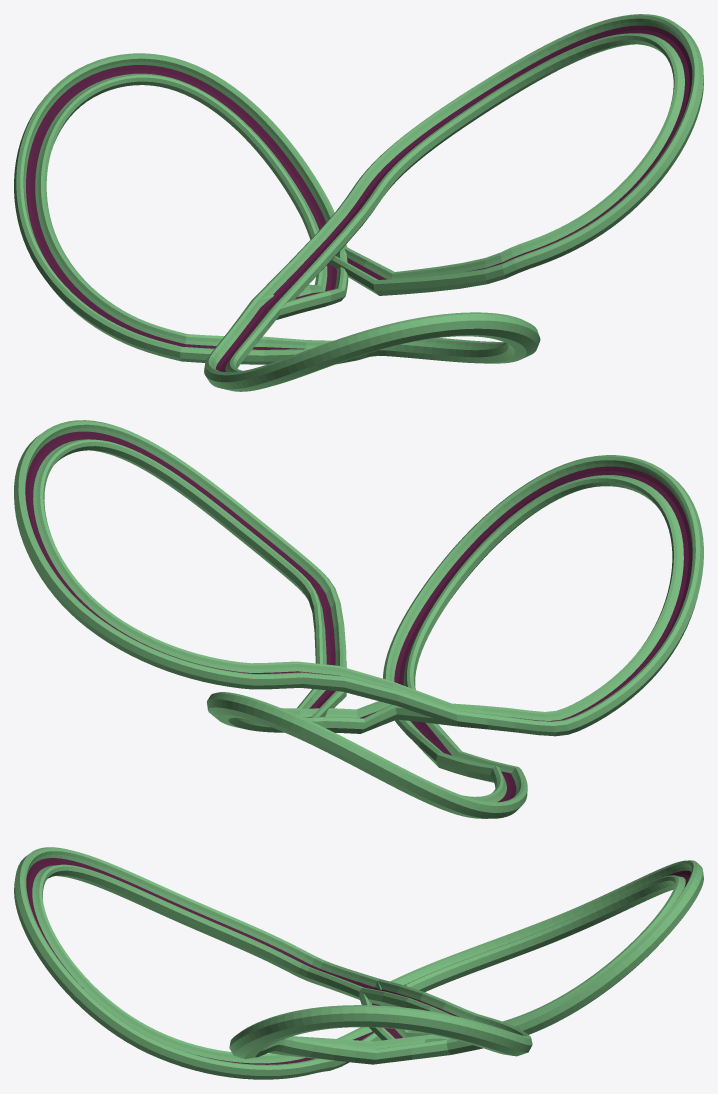
Rendered from This.fbx.
The picture shows the model from 3 angles, top to bottom: view 1: azimuth 30°, elevation 25°; view 2: azimuth 150°, elevation 25°; view 3: azimuth 270°, elevation 25°; orthographic projection. The views are drawn at different scales.
Parts seen in each view (by area): view 1: level3upgrade2.001, level3basic.003, upgrade1lvl3.002, 1, 2; view 2: level3upgrade2.001, upgrade1lvl3.002, level3basic.003, 1, 2; view 3: upgrade1lvl3.002, level3upgrade2.001, level3basic.003, 1.
Part boxes in pixels (x1,y1,x2,y2): level3upgrade2.001: [252, 14, 703, 309]; level3basic.003: [14, 53, 347, 361]; upgrade1lvl3.002: [180, 299, 540, 391]; 1: [258, 284, 345, 319]; 2: [314, 247, 348, 295]; level3upgrade2.001: [14, 420, 457, 726]; upgrade1lvl3.002: [383, 455, 703, 782]; level3basic.003: [207, 692, 527, 818]; 1: [356, 701, 456, 733]; 2: [298, 708, 364, 733]; upgrade1lvl3.002: [14, 847, 408, 1079]; level3upgrade2.001: [229, 979, 532, 1064]; level3basic.003: [390, 860, 703, 1054]; 1: [359, 981, 409, 1040].
Bounding box in the file's own units: 1695 × 699 × 1901.
